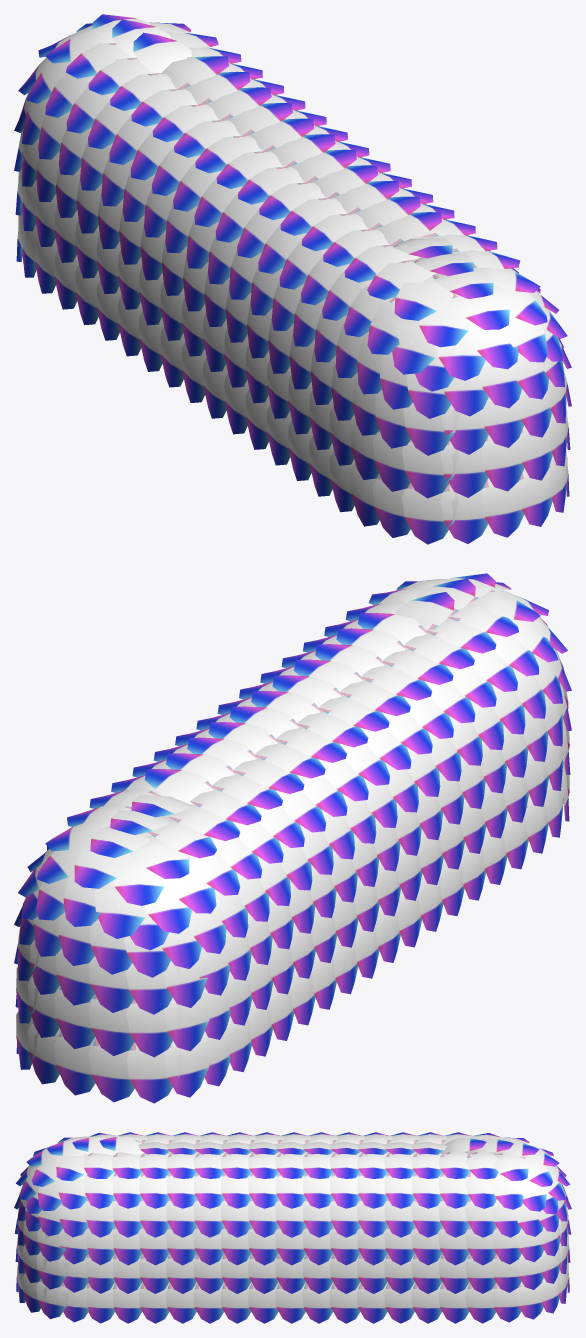
The model's file is Hedge2.fbx.
3 views of the same model, one above another, from view 1: azimuth 30°, elevation 25°; view 2: azimuth 150°, elevation 25°; view 3: azimuth 270°, elevation 25° (orthographic). The views are drawn at different scales.
Parts seen in each view (by area): view 1: Cube.023|Plane.293|Dupli|, Cube.023|Plane.293|Dupli|27, Cube.023|Plane.293|Dupli|54, Cube.023|Plane.293|Dupli|208, Cube.023|Plane.293|Dupli|55, Cube.023|Plane.293|Dupli|177, Cube.023|Plane.293|Dupli|174, Cube.023|Plane.293|Dupli|81, Cube.023|Plane.293|Dupli|28, Cube.023|Plane.293|Dupli|209, Cube.023|Plane.293|Dupli|212, Cube.023|Plane.293|Dupli|133 (+139 smaller); view 2: Cube.023|Plane.293|Dupli|2, Cube.023|Plane.293|Dupli|38, Cube.023|Plane.293|Dupli|35, Cube.023|Plane.293|Dupli|39, Cube.023|Plane.293|Dupli|153, Cube.023|Plane.293|Dupli|48, Cube.023|Plane.293|Dupli|37, Cube.023|Plane.293|Dupli|273, Cube.023|Plane.293|Dupli|270, Cube.023|Plane.293|Dupli|269, Cube.023|Plane.293|Dupli|156, Cube.023|Plane.293|Dupli|201 (+139 smaller); view 3: Cube.023|Plane.293|Dupli|63, Cube.023|Plane.293|Dupli|8, Cube.023|Plane.293|Dupli|24, Cube.023|Plane.293|Dupli|60, Cube.023|Plane.293|Dupli|9, Cube.023|Plane.293|Dupli|10, Cube.023|Plane.293|Dupli|25, Cube.023|Plane.293|Dupli|62, Cube.023|Plane.293|Dupli|26, Cube.023|Plane.293|Dupli|64, Cube.023|Plane.293|Dupli|61, Cube.023|Plane.293|Dupli|65 (+143 smaller).
Part boxes in pixels (x1,y1,x2,y2): Cube.023|Plane.293|Dupli|: (402, 483, 458, 544); Cube.023|Plane.293|Dupli|27: (402, 439, 458, 498); Cube.023|Plane.293|Dupli|54: (440, 483, 487, 543); Cube.023|Plane.293|Dupli|208: (394, 276, 453, 320); Cube.023|Plane.293|Dupli|55: (481, 478, 524, 537); Cube.023|Plane.293|Dupli|177: (440, 441, 488, 497); Cube.023|Plane.293|Dupli|174: (481, 435, 524, 491); Cube.023|Plane.293|Dupli|81: (392, 324, 437, 374); Cube.023|Plane.293|Dupli|28: (403, 402, 459, 455); Cube.023|Plane.293|Dupli|209: (419, 299, 472, 347); Cube.023|Plane.293|Dupli|212: (452, 289, 509, 329); Cube.023|Plane.293|Dupli|133: (133, 32, 192, 72); Cube.023|Plane.293|Dupli|2: (126, 1042, 182, 1103); Cube.023|Plane.293|Dupli|38: (88, 1038, 134, 1102); Cube.023|Plane.293|Dupli|35: (126, 999, 182, 1057); Cube.023|Plane.293|Dupli|39: (95, 881, 146, 938); Cube.023|Plane.293|Dupli|153: (88, 994, 134, 1055); Cube.023|Plane.293|Dupli|48: (164, 1041, 211, 1097); Cube.023|Plane.293|Dupli|37: (54, 1031, 95, 1095); Cube.023|Plane.293|Dupli|273: (74, 846, 133, 888); Cube.023|Plane.293|Dupli|270: (109, 852, 165, 905); Cube.023|Plane.293|Dupli|269: (164, 997, 211, 1051); Cube.023|Plane.293|Dupli|156: (54, 986, 95, 1049); Cube.023|Plane.293|Dupli|201: (144, 769, 215, 804); Cube.023|Plane.293|Dupli|63: (248, 1282, 278, 1323); Cube.023|Plane.293|Dupli|8: (438, 1282, 469, 1323); Cube.023|Plane.293|Dupli|24: (139, 1282, 169, 1323); Cube.023|Plane.293|Dupli|60: (357, 1282, 387, 1323); Cube.023|Plane.293|Dupli|9: (329, 1282, 360, 1323); Cube.023|Plane.293|Dupli|10: (220, 1282, 251, 1323); Cube.023|Plane.293|Dupli|25: (166, 1282, 196, 1323); Cube.023|Plane.293|Dupli|62: (411, 1282, 442, 1323); Cube.023|Plane.293|Dupli|26: (193, 1282, 224, 1323); Cube.023|Plane.293|Dupli|64: (275, 1282, 305, 1323); Cube.023|Plane.293|Dupli|61: (384, 1282, 414, 1323); Cube.023|Plane.293|Dupli|65: (302, 1282, 333, 1323).
Bounding box in the file's own units: 231 × 251 × 843.
